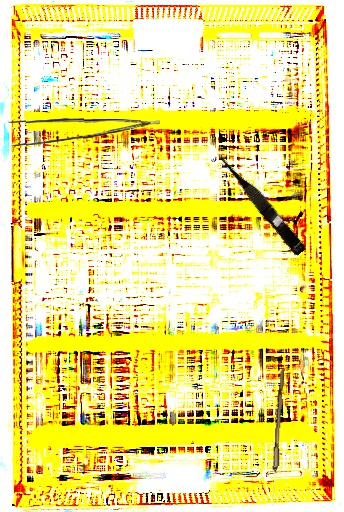Micro Scissor: (212, 146, 310, 257)
Surgical Spoon: (270, 368, 285, 507)
Tissue Forceps: (7, 117, 160, 149)
